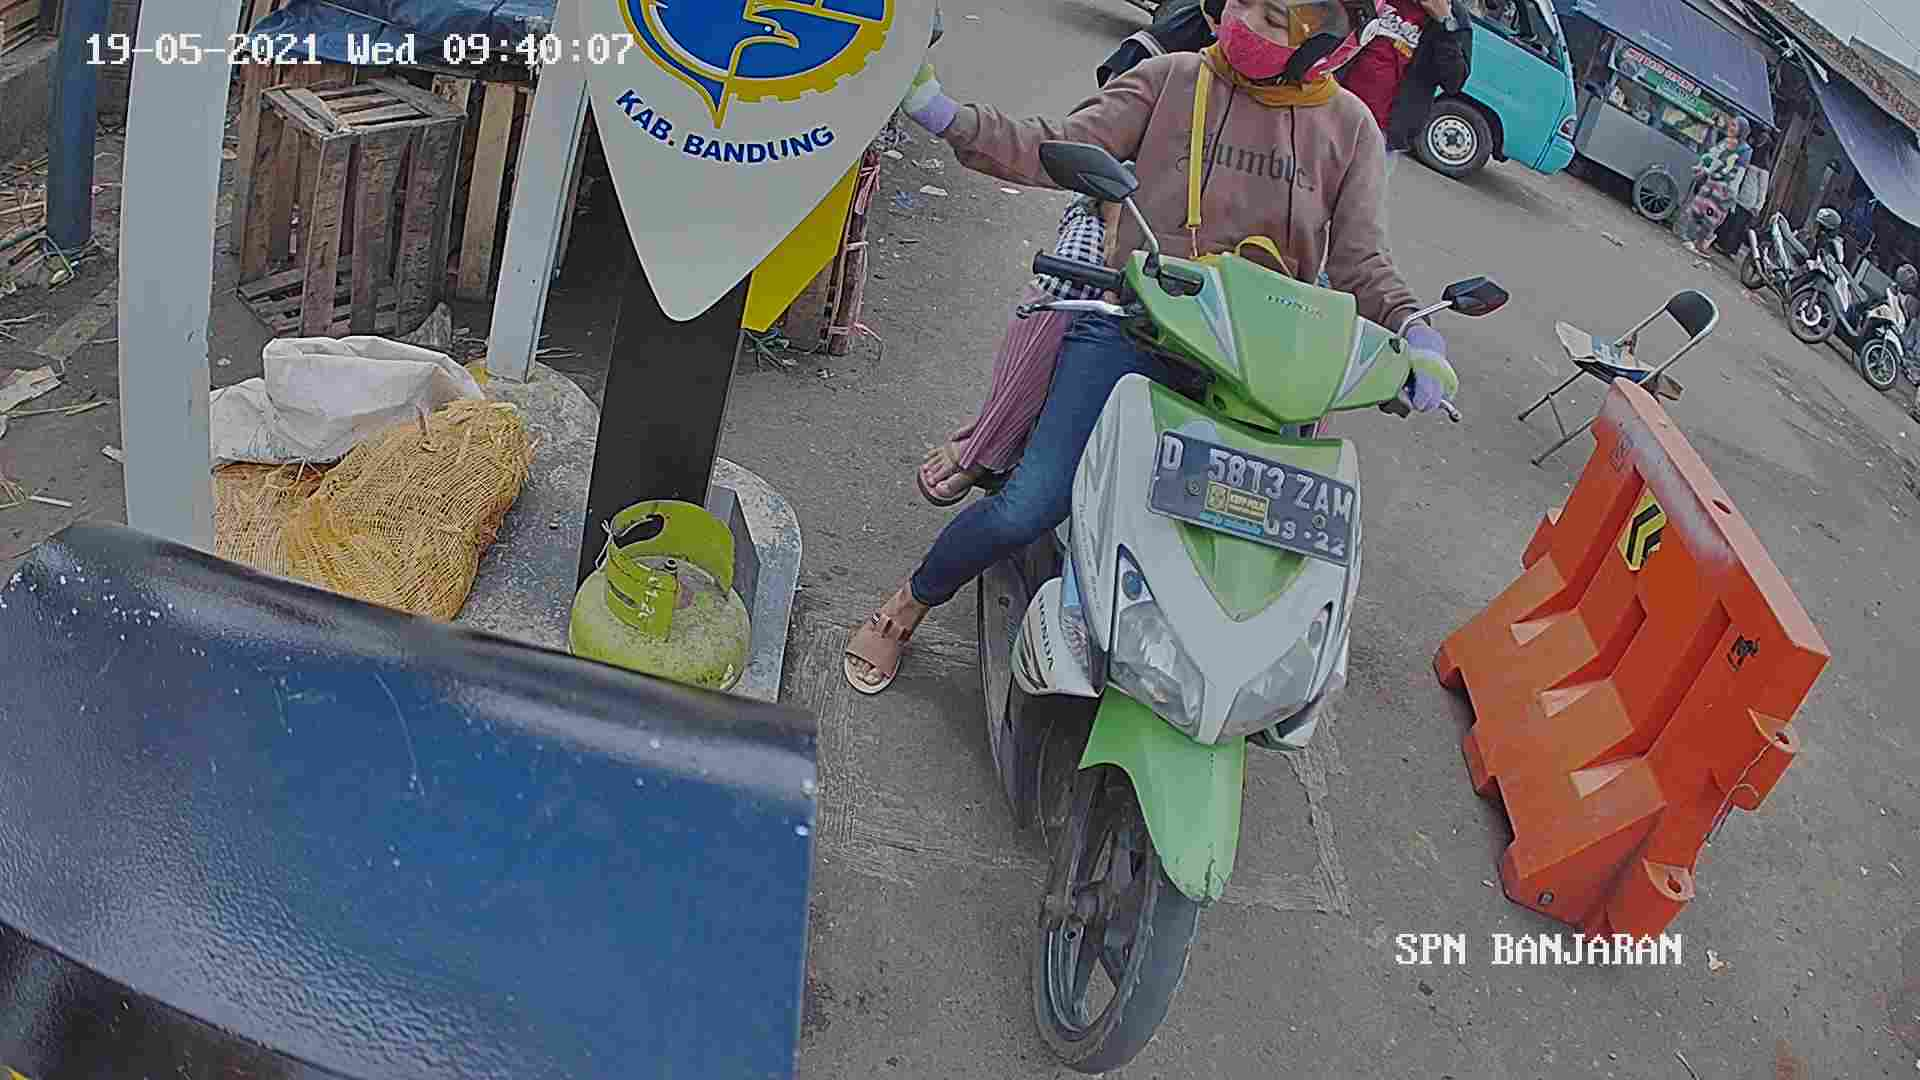motor: (976, 150, 1419, 1080)
